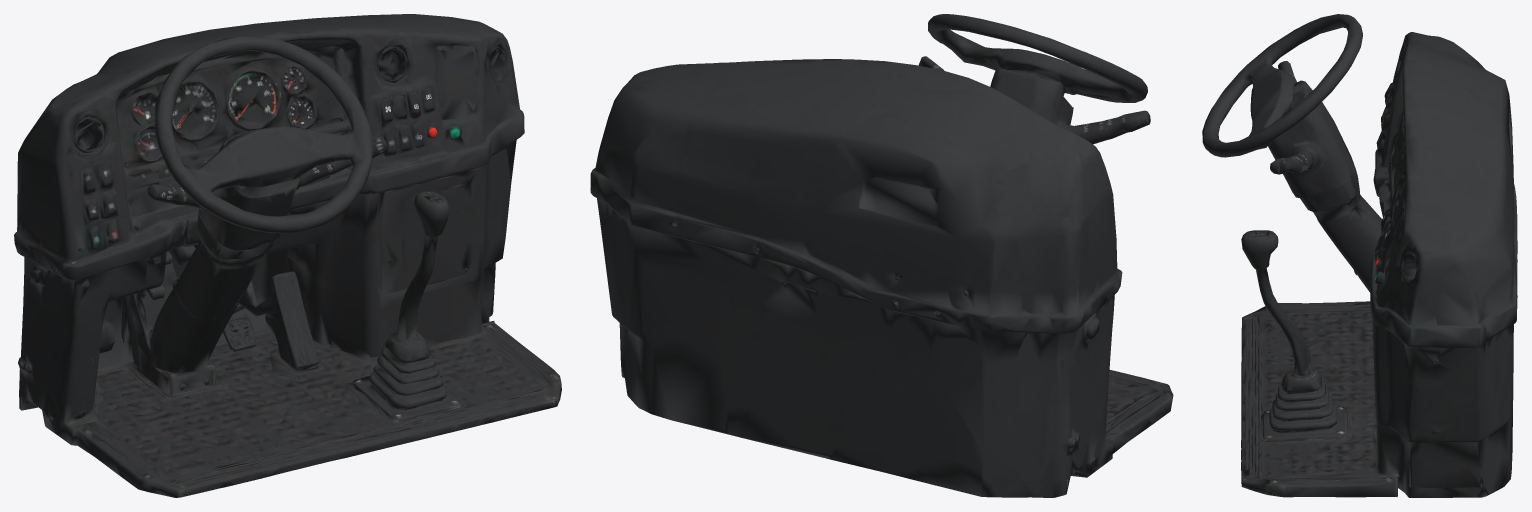
The model's file is cabina.glb.
3 renders of one model, left to right at view 1: azimuth 30°, elevation 25°; view 2: azimuth 150°, elevation 25°; view 3: azimuth 270°, elevation 25°, orthographic. The views are drawn at different scales.
Size of the model in its own units: 1.9 by 1.46 by 1.22.
Materials: 1 (1 with a texture image).
